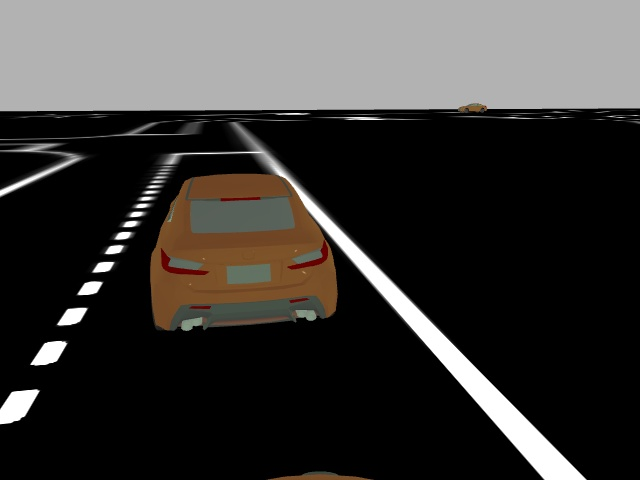obstacle_car: (147, 170, 340, 340)
